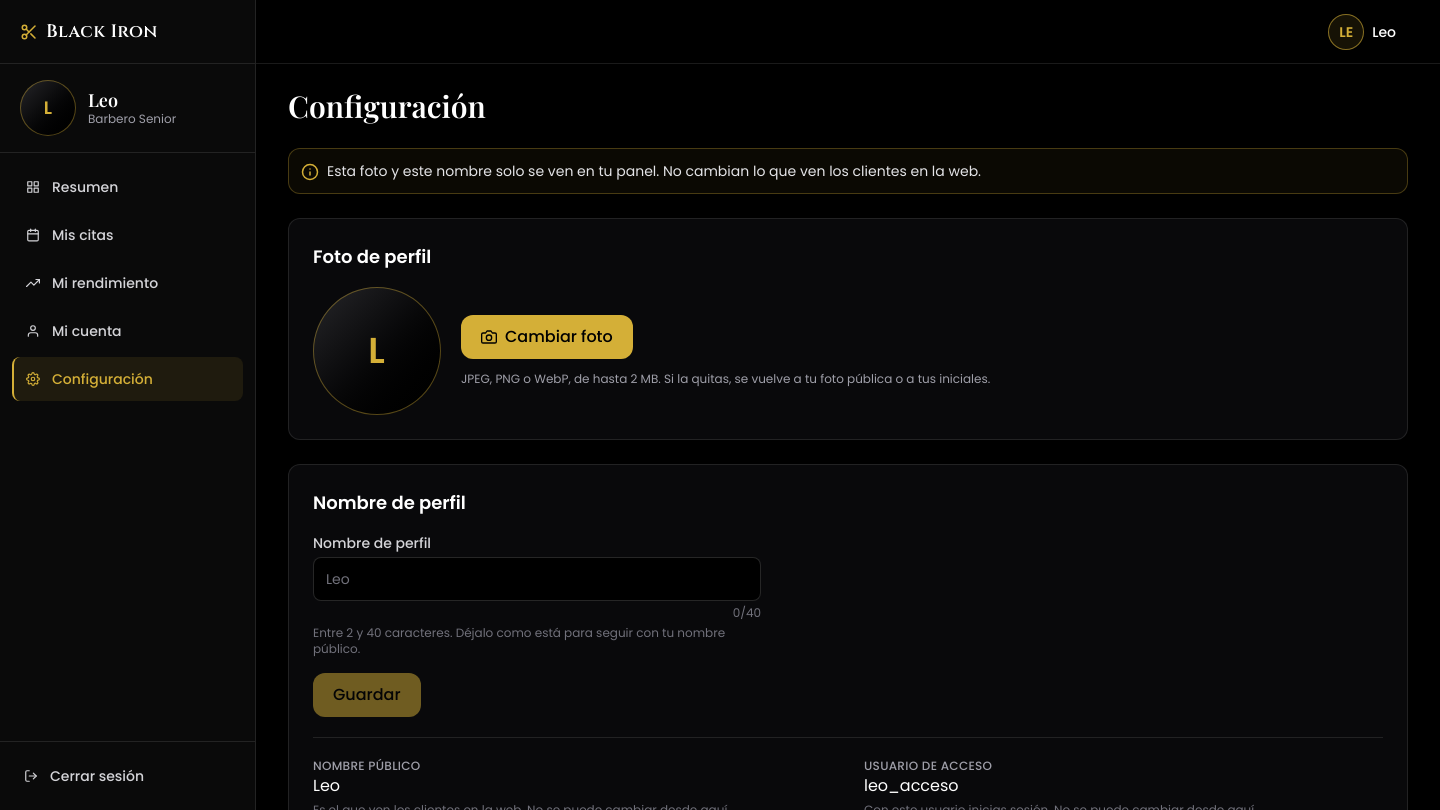
Test: /panel/configuracion (barbero) › guarda el nombre normalizado y el sidebar, el menú de usuario y Mi cuenta se actualizan al instante
Expected: the text "Leo" below "Black Iron" is shown, x1=88 y1=88 x2=118 y2=112
Step 1. Type "  Leo   Barber " into the field labelled "Nombre de perfil" → (537, 579), box x1=313 y1=557 x2=761 y2=601
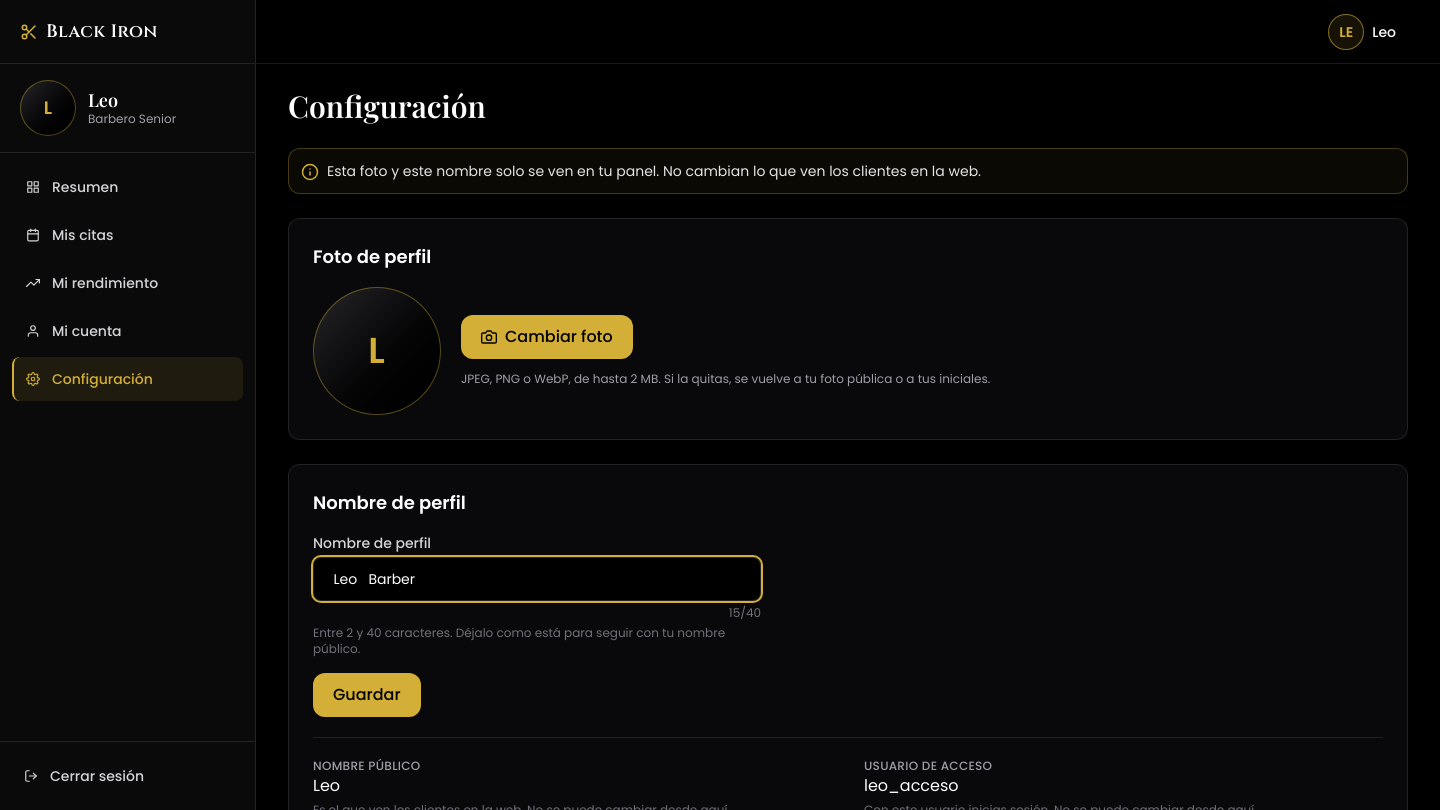
Step 2. Click the button "Guardar" → click(367, 695), box x1=313 y1=673 x2=421 y2=717
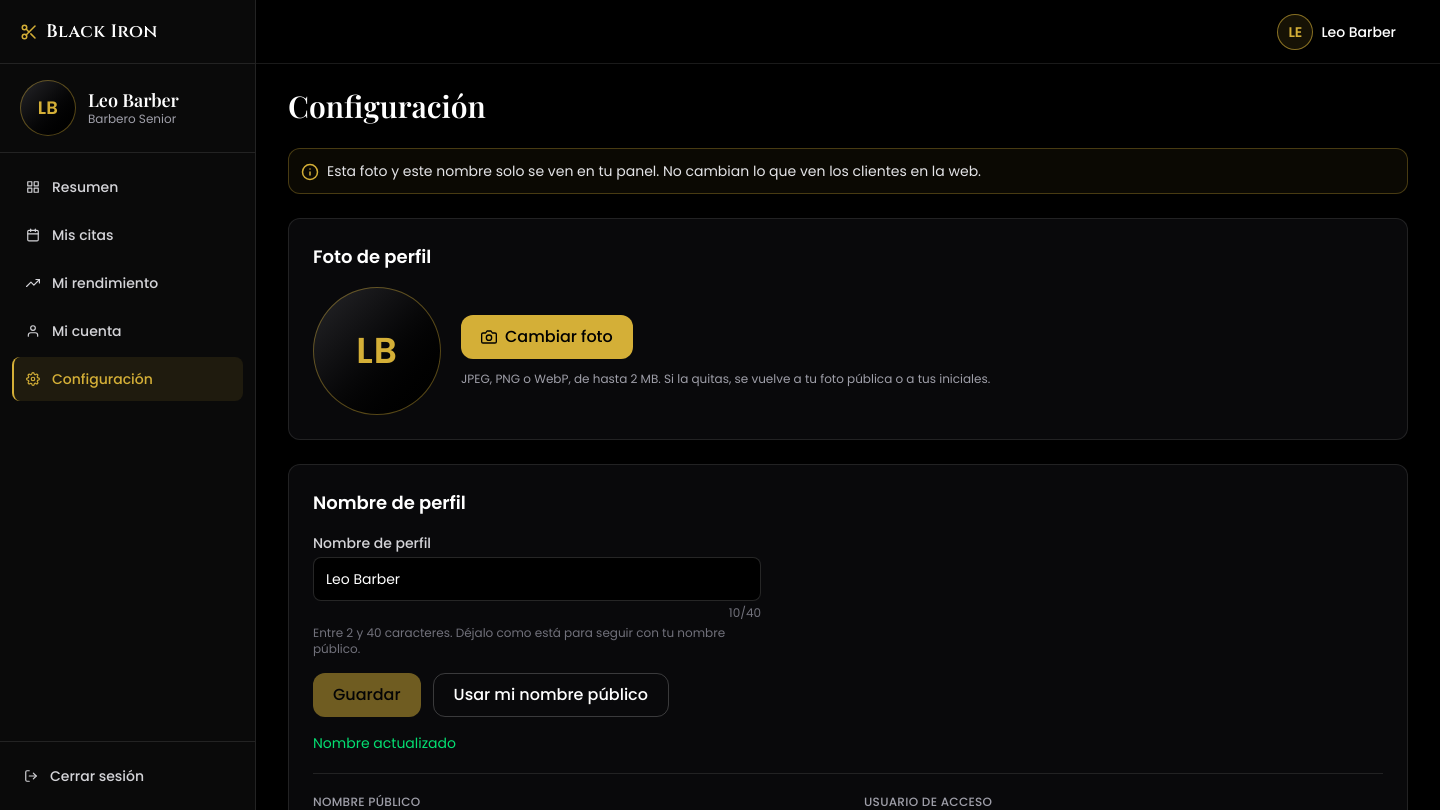
Expected: the text "Nombre actualizado" is shown, x1=313 y1=733 x2=456 y2=753
Expected: the text "Leo Barber" below "Black Iron" is shown, x1=88 y1=88 x2=179 y2=112
Expected: the button with aria-label "Menú de usuario de Leo Barber" is shown, x1=1277 y1=10 x2=1408 y2=54
# Mi cuenta (otra ruta del mismo layout) también lo muestra
Step 3. Click the link "Mi cuenta" → click(74, 331), box x1=26 y1=321 x2=122 y2=341
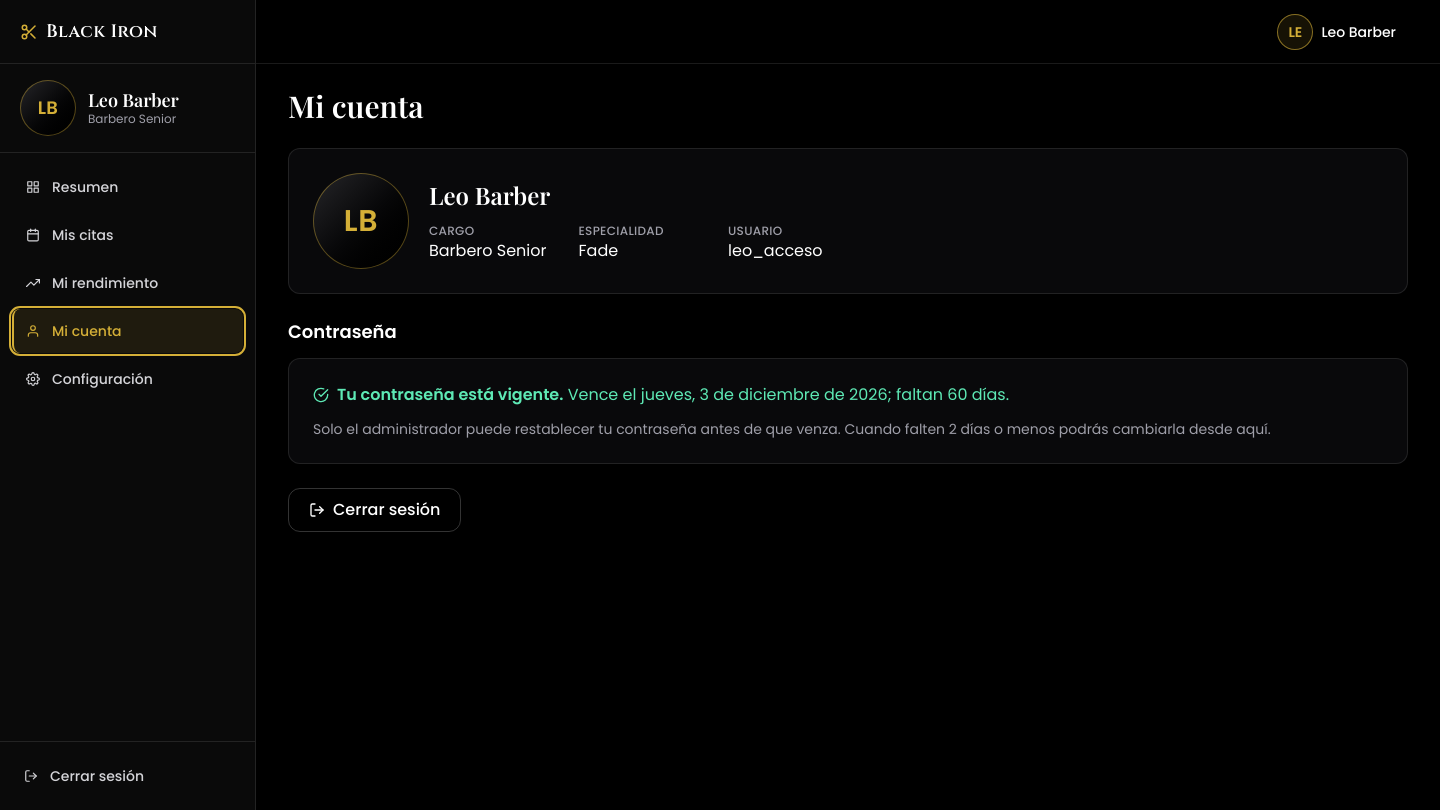
Expected: the 3rd text "Leo Barber" is shown, x1=429 y1=179 x2=550 y2=211
